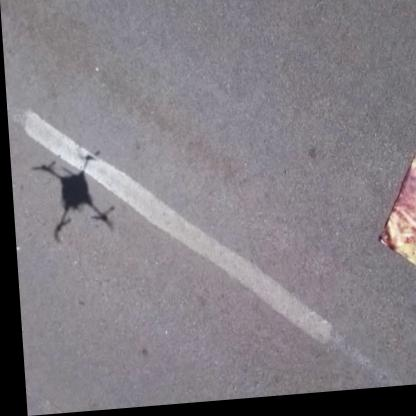fire-poster: (370, 142, 416, 295)
